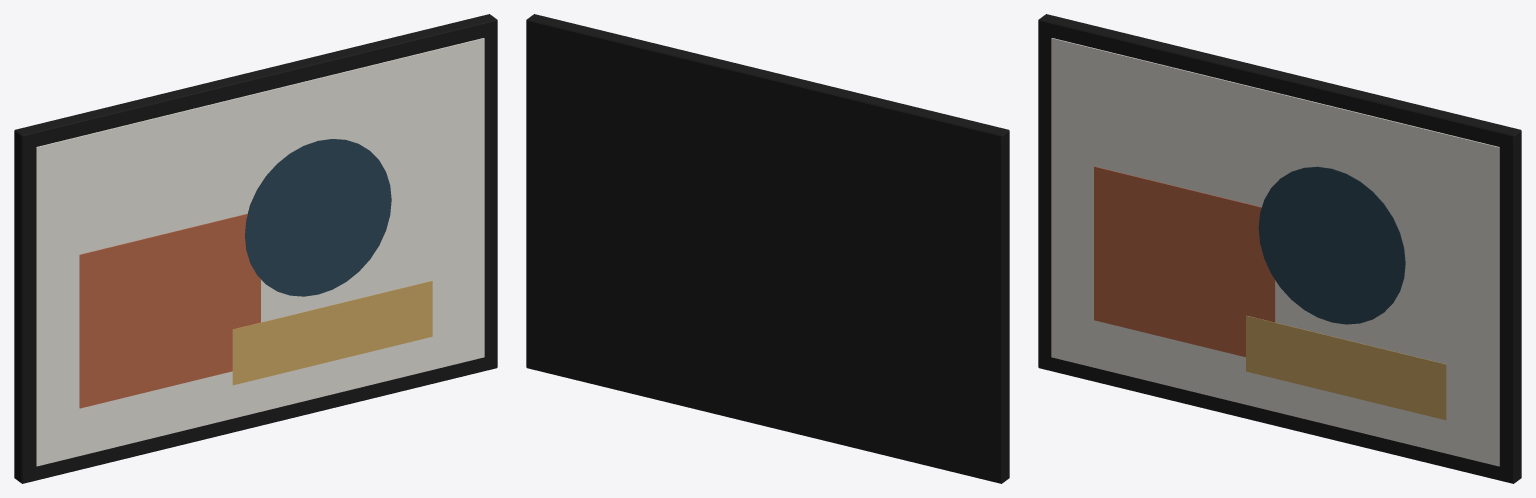
Rendered from 12_obraz_100.glb.
3 views of the same model, side by side, from view 1: azimuth 30°, elevation 25°; view 2: azimuth 150°, elevation 25°; view 3: azimuth 330°, elevation 25° (orthographic).
Parts seen in each view (by area): view 1: Obraz_plotno, Obraz_rama, Obraz_plama_1, Obraz_plama_2, Obraz_plama_3; view 2: Obraz_rama; view 3: Obraz_plotno, Obraz_rama, Obraz_plama_1, Obraz_plama_2, Obraz_plama_3.
Boxes of the visible parts, x1=… form: Obraz_plotno: x1=36, y1=38, x2=484, y2=466; Obraz_rama: x1=14, y1=14, x2=497, y2=483; Obraz_plama_1: x1=79, y1=214, x2=260, y2=408; Obraz_plama_2: x1=245, y1=139, x2=391, y2=296; Obraz_plama_3: x1=232, y1=280, x2=432, y2=385; Obraz_rama: x1=526, y1=14, x2=1009, y2=483; Obraz_plotno: x1=1051, y1=38, x2=1499, y2=466; Obraz_rama: x1=1038, y1=14, x2=1521, y2=483; Obraz_plama_1: x1=1094, y1=166, x2=1275, y2=357; Obraz_plama_2: x1=1258, y1=166, x2=1405, y2=324; Obraz_plama_3: x1=1246, y1=315, x2=1446, y2=420.
Size of the model in its own units: 1 by 0.7 by 0.0343.
